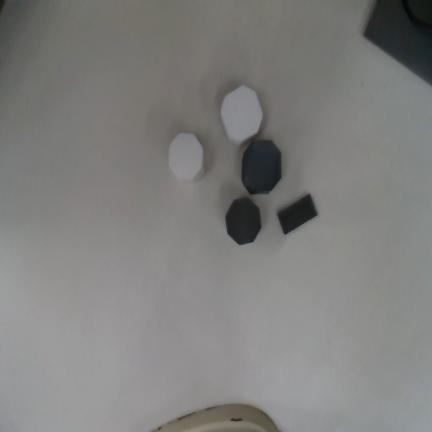Paralelepipedo: (276, 193, 318, 235)
Prisma_hexagonal: (220, 86, 264, 146), (241, 140, 282, 195), (167, 132, 205, 181), (225, 197, 261, 245)
